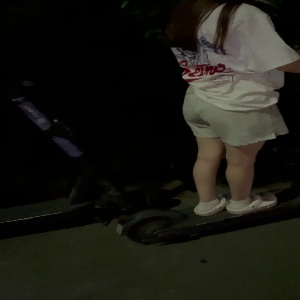human on a scooter: (115, 1, 300, 248)
